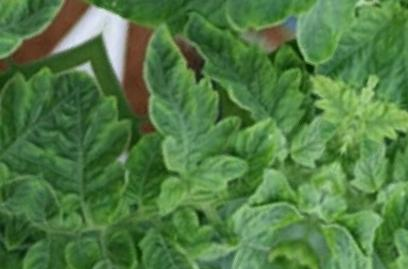Tomato leaf mosaic virus: (92, 20, 262, 207), (31, 58, 167, 229), (164, 12, 327, 140), (307, 0, 408, 109), (217, 101, 299, 203), (221, 179, 310, 266), (277, 0, 369, 74), (117, 221, 229, 269), (12, 223, 82, 269)
